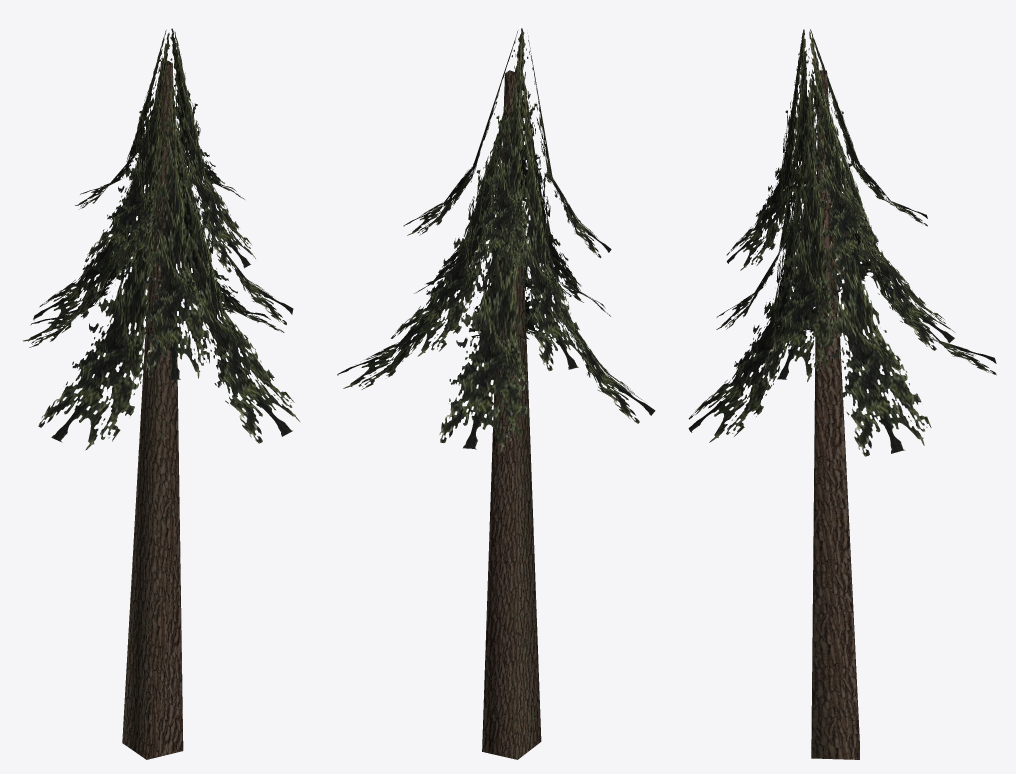
The model's file is love-death-pine-art.glb.
3 views of the same model, side by side, from view 1: azimuth 30°, elevation 25°; view 2: azimuth 150°, elevation 25°; view 3: azimuth 270°, elevation 25° (orthographic). The views are drawn at different scales.
Visible parts, largest first — view 1: LoveDeath_Pine_Art; view 2: LoveDeath_Pine_Art; view 3: LoveDeath_Pine_Art.
Boxes of the visible parts, box(x1,y1,x2,y2) form: LoveDeath_Pine_Art: box(23, 28, 299, 759); LoveDeath_Pine_Art: box(337, 28, 655, 759); LoveDeath_Pine_Art: box(688, 29, 996, 759).
Bounding box in the file's own units: 3.52 × 8.98 × 3.51.
Materials: 2 (2 with a texture image).
